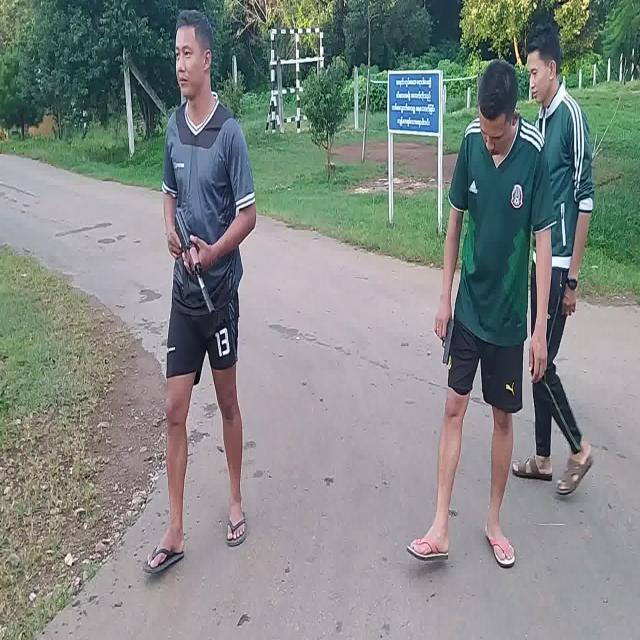gun: (175, 212, 216, 318), (443, 320, 454, 365)
